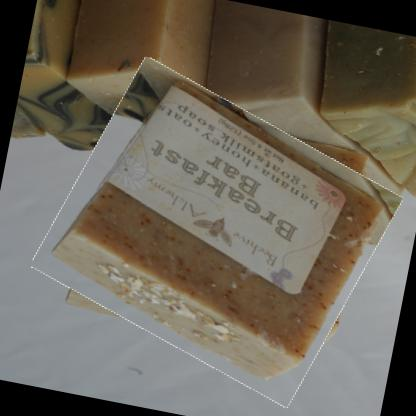soap: (31, 63, 402, 399)
